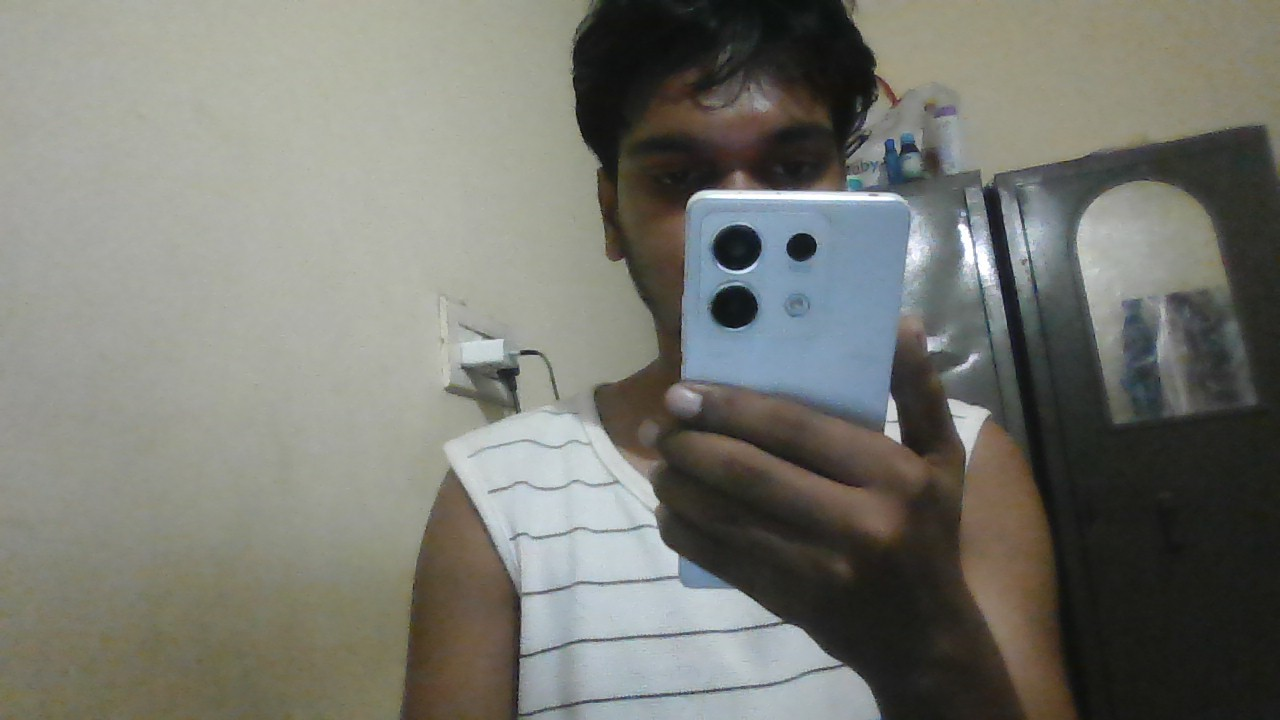phone: (678, 193, 916, 372)
